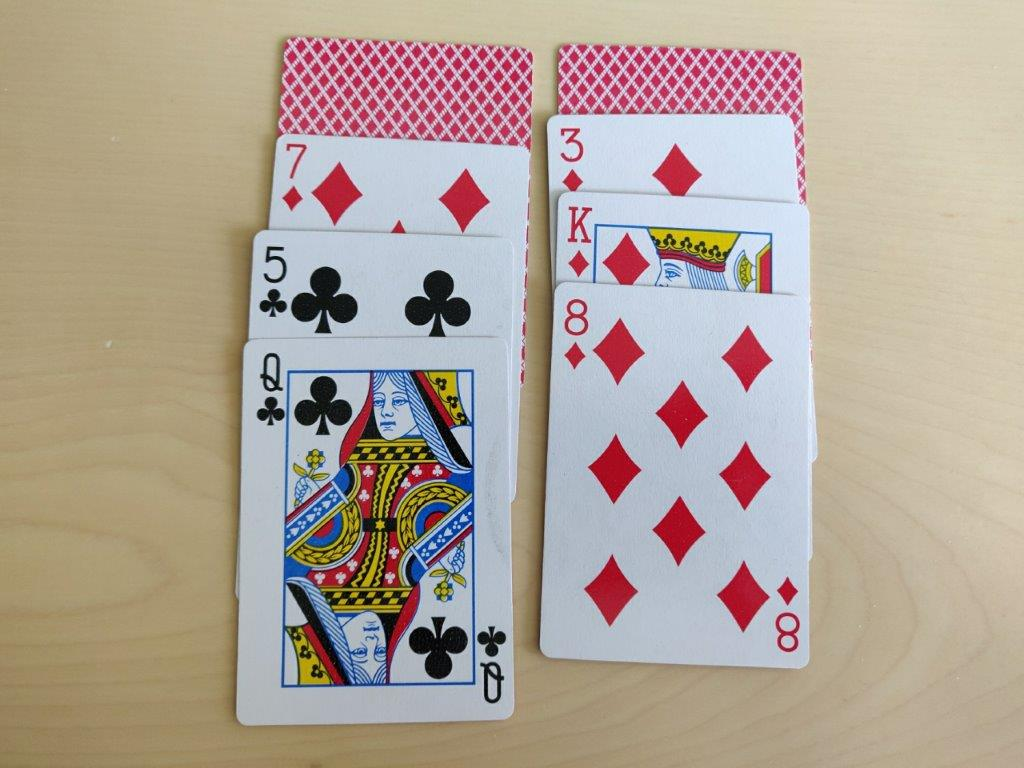3D: (554, 118, 590, 194)
5C: (254, 233, 291, 322)
7D: (275, 140, 308, 211)
8D: (558, 292, 594, 373)
BACK: (279, 30, 533, 138), (560, 42, 811, 122)
KD: (562, 198, 596, 284)
QC: (252, 345, 291, 431)
